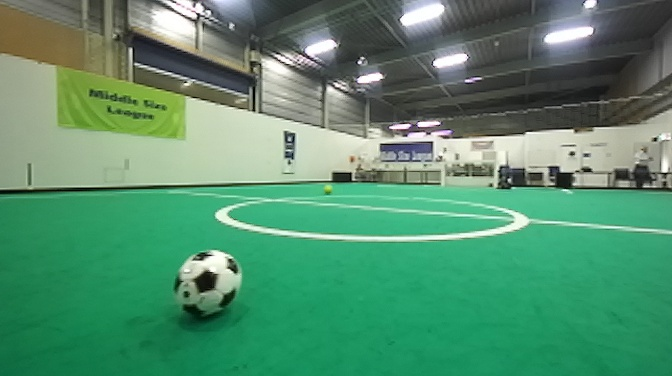ball: (170, 246, 248, 323), (321, 181, 334, 196)
goal: (440, 159, 498, 190)
goalpost: (440, 160, 447, 190), (493, 159, 499, 189)
